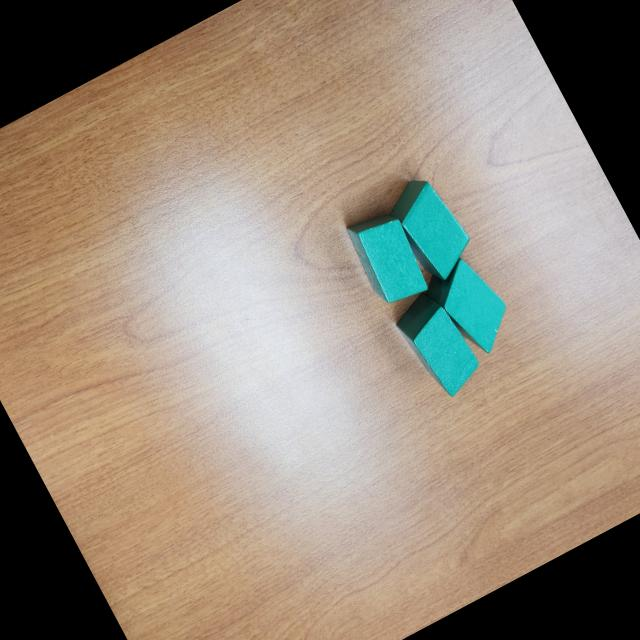green: (417, 248, 523, 368), (379, 168, 480, 288), (388, 284, 488, 404), (341, 201, 436, 314)
